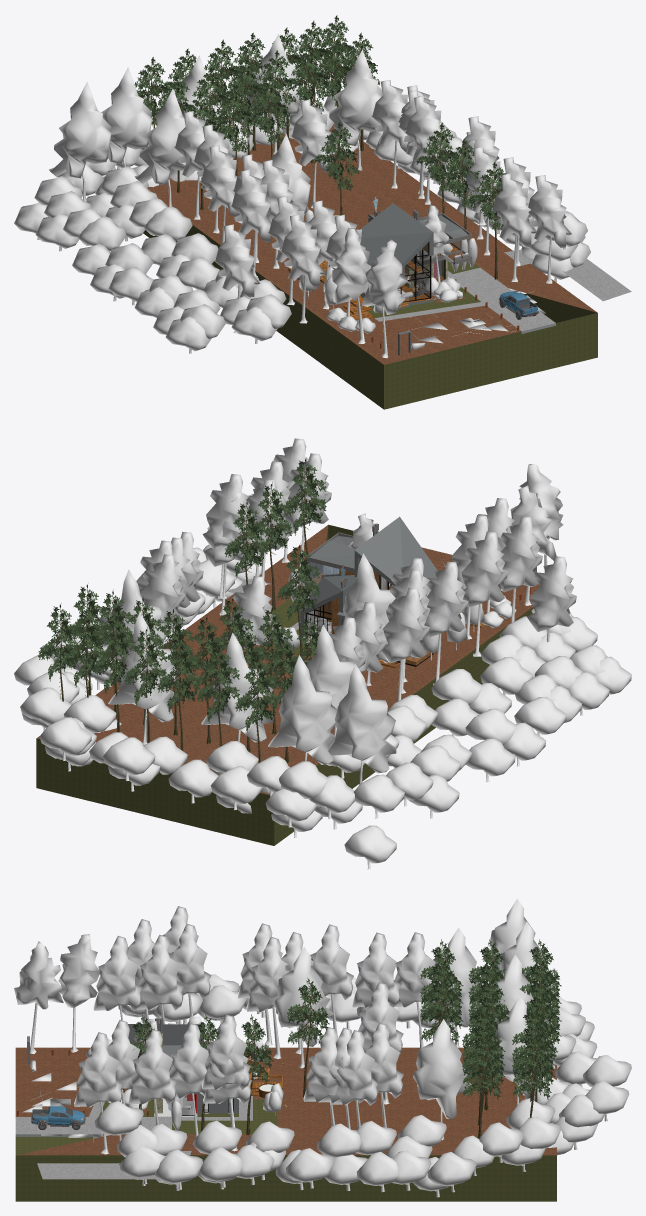
Rendered from martin.glb.
The picture shows the model from 3 angles, top to bottom: view 1: azimuth 30°, elevation 25°; view 2: azimuth 150°, elevation 25°; view 3: azimuth 270°, elevation 25°; orthographic projection. The views are drawn at different scales.
Visible parts, largest first — view 1: 3DGeom-26, 3DGeom-1699, 3DGeom-10411, 3DGeom-1837, 3DGeom-1650, 3DGeom-1542, 3DGeom-2389, 3DGeom-886, 3DGeom-1532, 3DGeom-1652, 3DGeom-2464; view 2: 3DGeom-26, 3DGeom-10411, 3DGeom-1699, 3DGeom-1837, 3DGeom-1542, 3DGeom-2389, 3DGeom-1545, 3DGeom-1532, 3DGeom-2464; view 3: 3DGeom-26, 3DGeom-1837, 3DGeom-1699, 3DGeom-10411, 3DGeom-1650, 3DGeom-2389, 3DGeom-1542, 3DGeom-2464, 3DGeom-1415.
Part boxes in pixels (x1,y1,x2,y2): 3DGeom-26: (14, 34, 590, 358); 3DGeom-1699: (147, 123, 597, 364); 3DGeom-10411: (134, 15, 505, 230); 3DGeom-1837: (143, 225, 597, 409); 3DGeom-1650: (375, 249, 631, 331); 3DGeom-1542: (360, 203, 467, 355); 3DGeom-2389: (138, 21, 502, 278); 3DGeom-886: (398, 238, 537, 313); 3DGeom-1532: (364, 210, 471, 296); 3DGeom-1652: (319, 243, 459, 320); 3DGeom-2464: (152, 31, 497, 279); 3DGeom-26: (14, 438, 631, 869); 3DGeom-10411: (38, 457, 326, 732); 3DGeom-1699: (37, 525, 539, 795); 3DGeom-1837: (36, 524, 533, 845); 3DGeom-1542: (300, 516, 536, 635); 3DGeom-2389: (48, 467, 318, 762); 3DGeom-1545: (321, 559, 433, 665); 3DGeom-1532: (305, 523, 411, 656); 3DGeom-2464: (58, 539, 309, 762); 3DGeom-26: (14, 898, 631, 1197); 3DGeom-1837: (15, 1099, 556, 1201); 3DGeom-1699: (15, 1047, 556, 1155); 3DGeom-10411: (130, 939, 561, 1099); 3DGeom-1650: (15, 1096, 252, 1179); 3DGeom-2389: (134, 947, 558, 1137); 3DGeom-1542: (27, 1024, 238, 1113); 3DGeom-2464: (139, 957, 542, 1138); 3DGeom-1415: (32, 1106, 84, 1125).
Bounding box in the file's own units: 48.52 × 19.08 × 60.69.
Materials: 144 (140 with a texture image).
